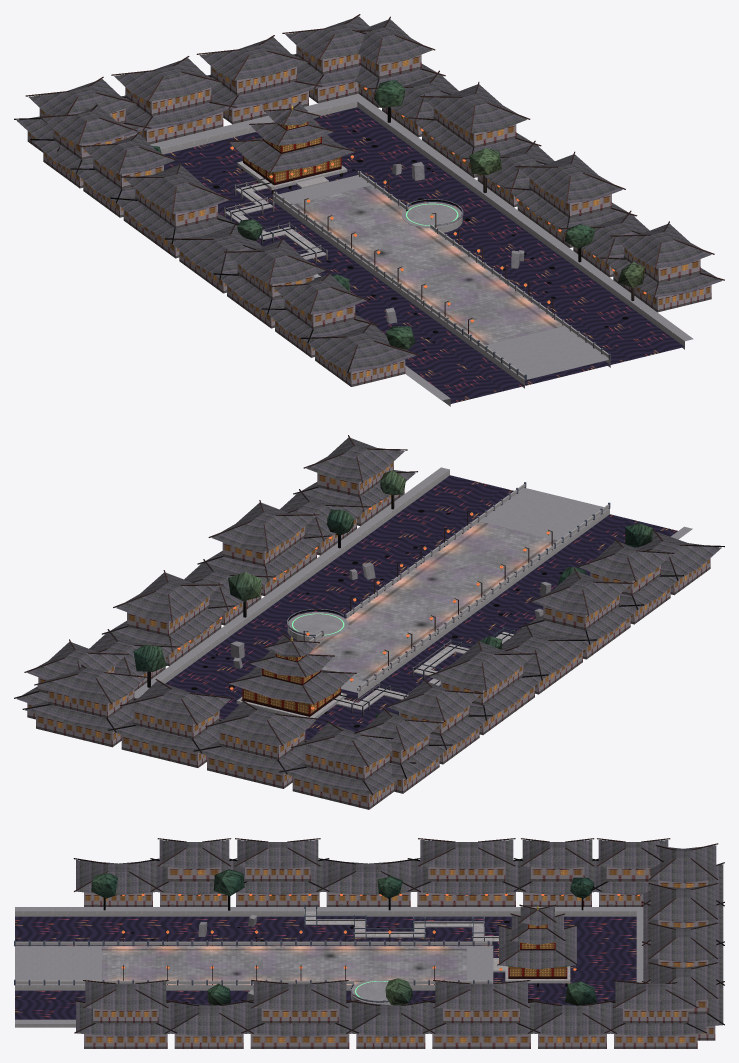
File: lugar-shanghai.glb
The picture shows the model from 3 angles, top to bottom: view 1: azimuth 30°, elevation 25°; view 2: azimuth 150°, elevation 25°; view 3: azimuth 270°, elevation 25°; orthographic projection. The views are drawn at different scales.
Visible parts, largest first — view 1: luzS-pista, planoE, vert-cerca; view 2: luzS-pista, planoE, vert-cerca; view 3: luzS-pista, planoE, vert-cerca.
Boxes of the visible parts, left/top/right/bottom form: luzS-pista: left=16, top=16, right=722, bottom=406; planoE: left=27, top=45, right=711, bottom=403; vert-cerca: left=14, top=14, right=724, bottom=380; luzS-pista: left=16, top=437, right=721, bottom=794; planoE: left=27, top=461, right=710, bottom=809; vert-cerca: left=14, top=435, right=724, bottom=795; luzS-pista: left=15, top=840, right=723, bottom=1036; planoE: left=15, top=866, right=715, bottom=1048; vert-cerca: left=14, top=838, right=724, bottom=1033.
Size of the model in its own units: 84.05 by 15.3 by 144.
Materials: 13 (10 with a texture image).
